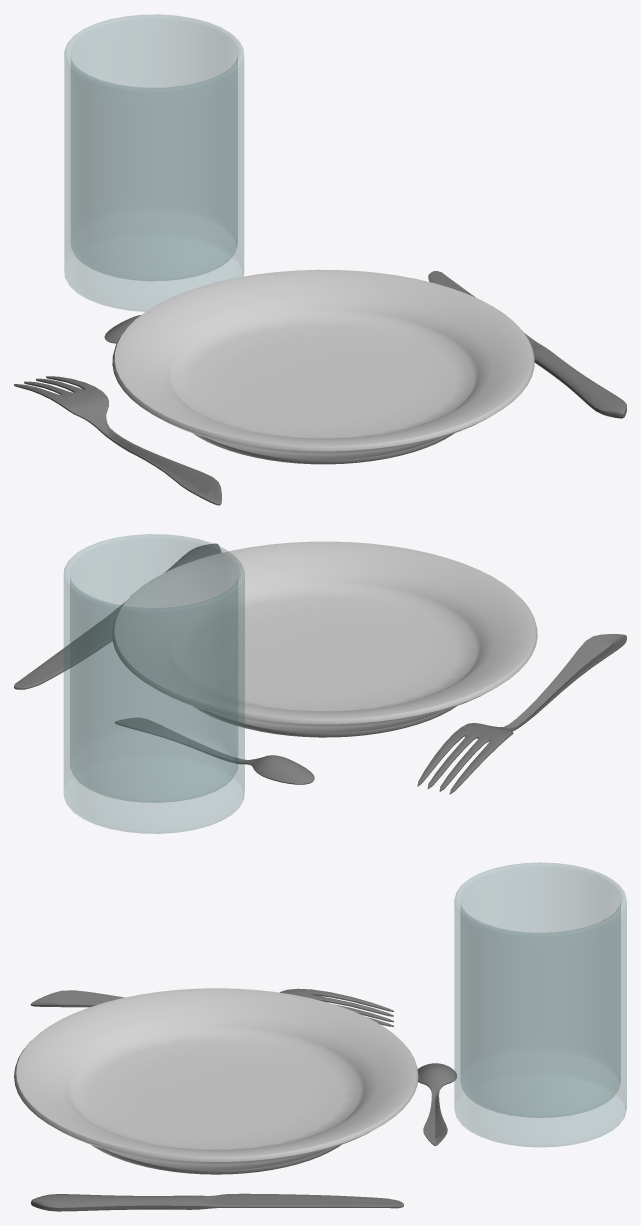
Rendered from katorlegaz-plate-and-ustensils.glb.
3 views of the same model, one above another, from view 1: azimuth 30°, elevation 25°; view 2: azimuth 150°, elevation 25°; view 3: azimuth 270°, elevation 25° (orthographic). The views are drawn at different scales.
Visible parts, largest first — view 1: bread_plate_bread_plate_CERAMIC_white, 12_oz_glass_12_oz_glass_12_oz_glass, fork_fork_METAL_flatware, table_knife_table_knife_METAL_flatware.001; view 2: bread_plate_bread_plate_CERAMIC_white, 12_oz_glass_12_oz_glass_12_oz_glass, fork_fork_METAL_flatware, table_knife_table_knife_METAL_flatware.001, teaspoon_teaspoon.004_METAL_flatware.007; view 3: bread_plate_bread_plate_CERAMIC_white, 12_oz_glass_12_oz_glass_12_oz_glass, table_knife_table_knife_METAL_flatware.001, fork_fork_METAL_flatware, teaspoon_teaspoon.004_METAL_flatware.007.
Part boxes in pixels (bbox=[...]): bread_plate_bread_plate_CERAMIC_white: bbox=[112, 269, 534, 464]; 12_oz_glass_12_oz_glass_12_oz_glass: bbox=[64, 14, 243, 311]; fork_fork_METAL_flatware: bbox=[14, 376, 221, 505]; table_knife_table_knife_METAL_flatware.001: bbox=[428, 271, 626, 418]; bread_plate_bread_plate_CERAMIC_white: bbox=[112, 541, 537, 737]; 12_oz_glass_12_oz_glass_12_oz_glass: bbox=[64, 534, 244, 833]; fork_fork_METAL_flatware: bbox=[417, 634, 626, 794]; table_knife_table_knife_METAL_flatware.001: bbox=[14, 543, 221, 689]; teaspoon_teaspoon.004_METAL_flatware.007: bbox=[115, 718, 314, 784]; bread_plate_bread_plate_CERAMIC_white: bbox=[14, 988, 418, 1174]; 12_oz_glass_12_oz_glass_12_oz_glass: bbox=[454, 862, 626, 1147]; table_knife_table_knife_METAL_flatware.001: bbox=[31, 1193, 403, 1211]; fork_fork_METAL_flatware: bbox=[30, 988, 393, 1026]; teaspoon_teaspoon.004_METAL_flatware.007: bbox=[417, 1063, 456, 1145].
Bounding box in the file's own units: 1.49 × 0.7254 × 1.87.
